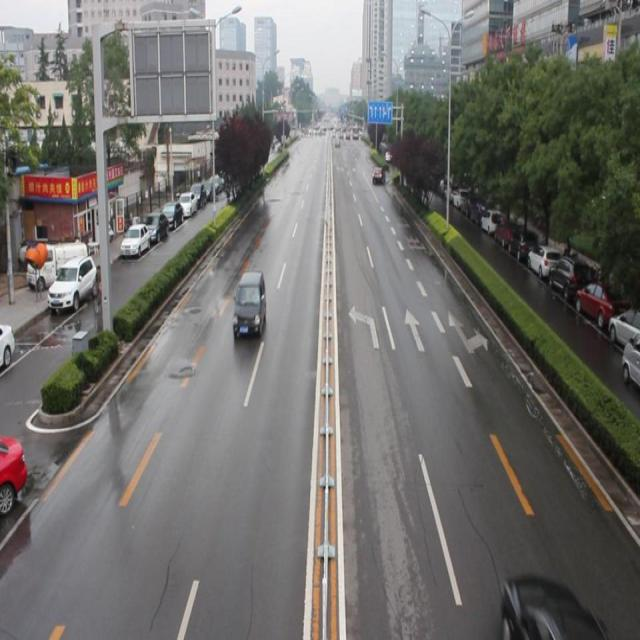car: (500, 575, 606, 640), (1, 431, 28, 518), (371, 167, 385, 184)
truck: (232, 270, 266, 343)
